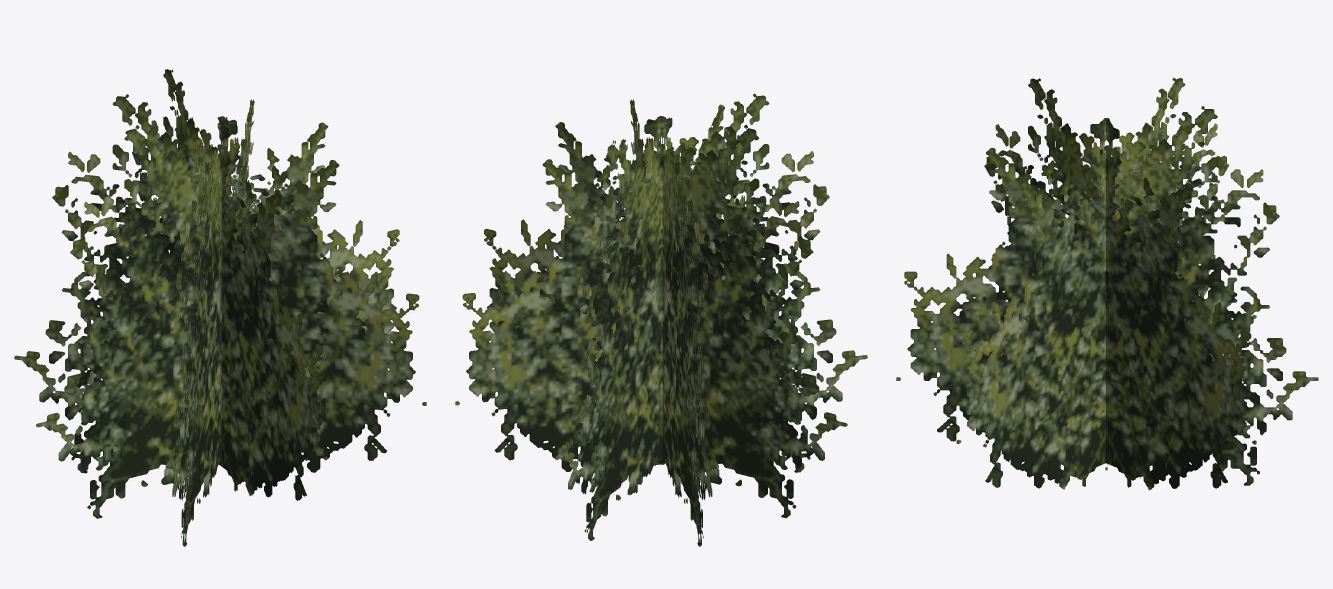
The model's file is Bush_02.fbx.
3 views of the same model, side by side, from view 1: azimuth 30°, elevation 25°; view 2: azimuth 150°, elevation 25°; view 3: azimuth 270°, elevation 25° (orthographic).
Parts seen in each view (by area): view 1: Plane; view 2: Plane; view 3: Plane.
Part boxes in pixels (x1,y1,x2,y2): Plane: (14, 69, 426, 546); Plane: (455, 93, 867, 546); Plane: (896, 77, 1318, 490).
Bounding box in the file's own units: 200 × 200 × 200.
